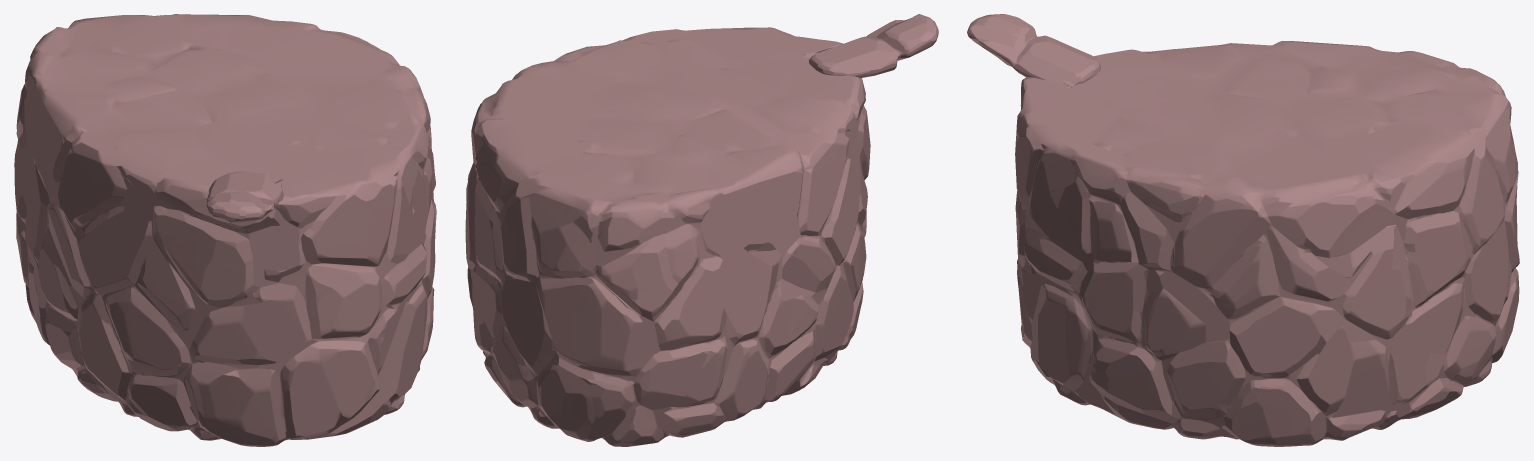
Rendered from cactus_desert.fbx_Cube__5_LODs.fbx.
3 renders of one model, left to right at view 1: azimuth 30°, elevation 25°; view 2: azimuth 150°, elevation 25°; view 3: azimuth 270°, elevation 25°, orthographic. The views are drawn at different scales.
Parts seen in each view (by area): view 1: Cube (5)_LOD0; view 2: Cube (5)_LOD0; view 3: Cube (5)_LOD0.
Boxes of the visible parts, x1,y1,x2,y2 form: Cube (5)_LOD0: (14, 14, 436, 446); Cube (5)_LOD0: (465, 14, 938, 446); Cube (5)_LOD0: (967, 14, 1519, 446).
Size of what is drawn, in the model's own units: 4233 by 3372 by 5869.
